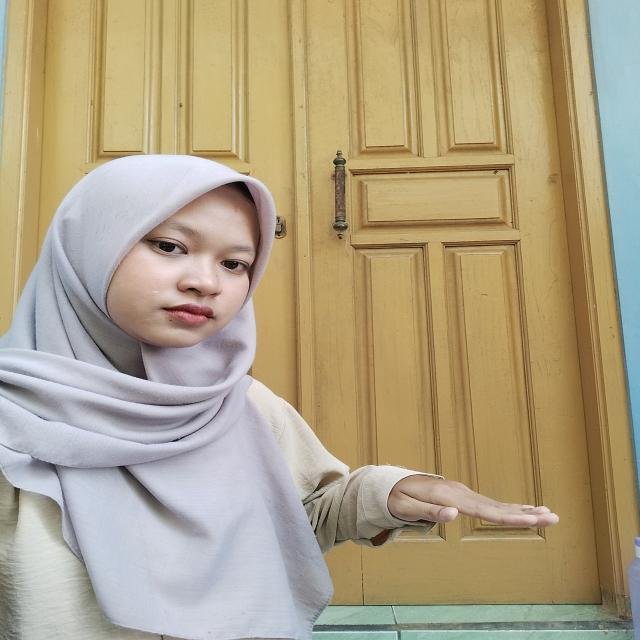adik: (362, 455, 557, 562)
